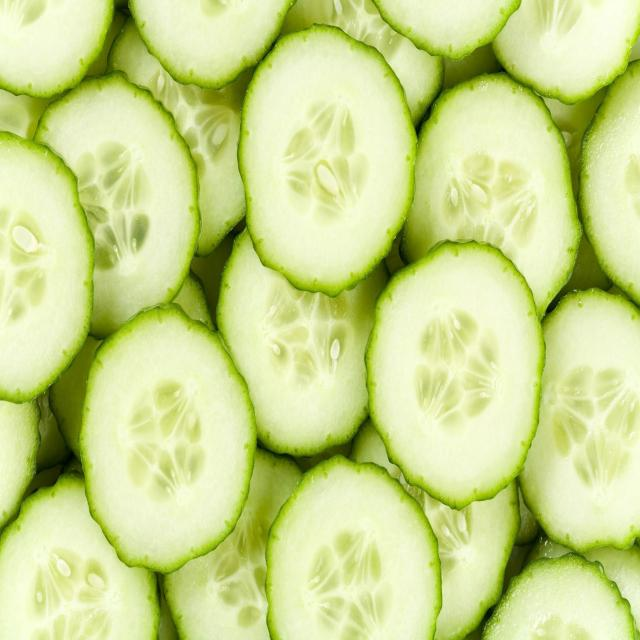Pickle: (238, 24, 416, 296), (79, 304, 256, 574), (366, 242, 545, 508), (36, 71, 200, 338), (216, 231, 389, 458), (266, 456, 441, 639)
